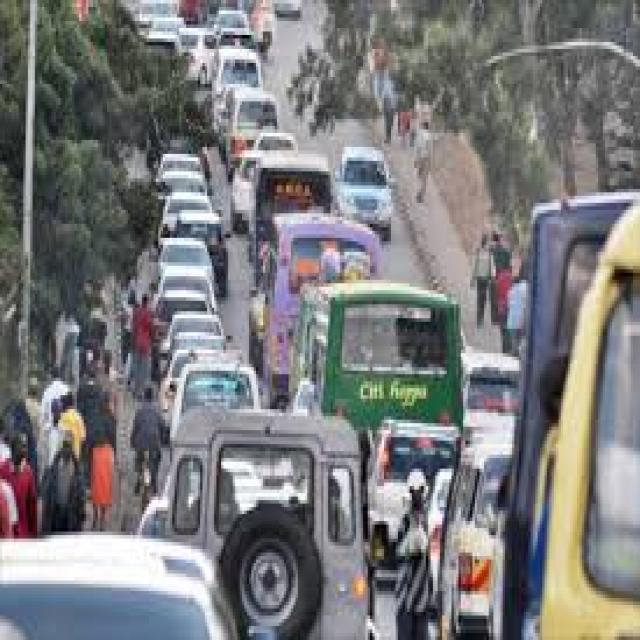bus: (298, 273, 472, 436), (250, 202, 299, 394), (256, 148, 338, 188)
matatu: (435, 446, 499, 639), (217, 83, 294, 141)
